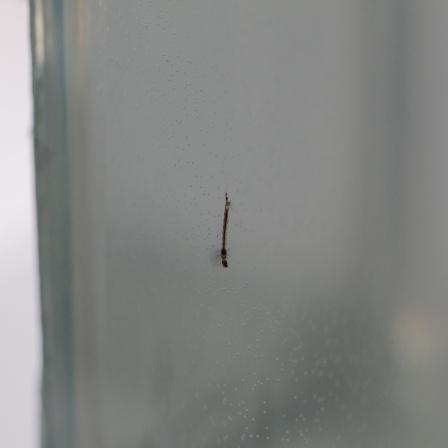Jentik-Nyamuk: (215, 187, 234, 272)
